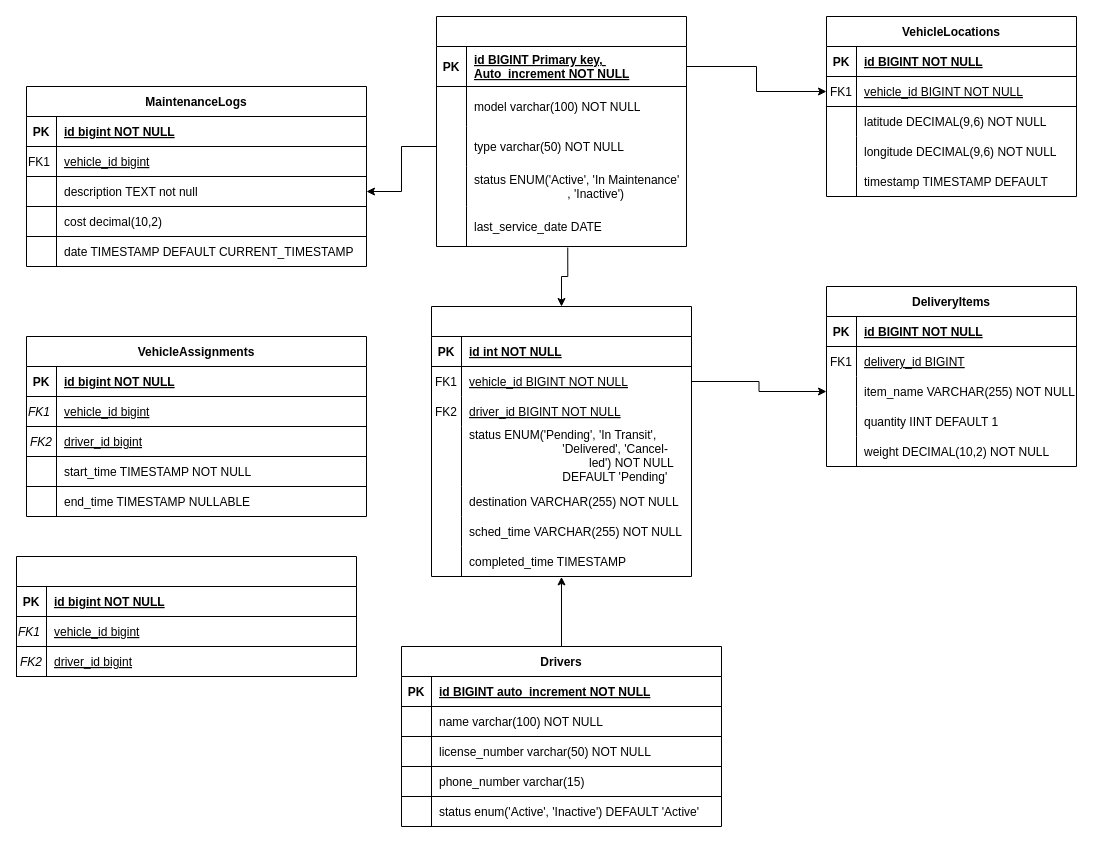
Image size: 1093x843. Some labels were removed from this diagram. Here are the shapes that lost their labels. From the top down, the box of each, then its label:
(436, 16, 686, 246): Vehicles
(430, 306, 692, 576): Deliveries
(16, 556, 356, 676): DriverBehaviorAnalysis
